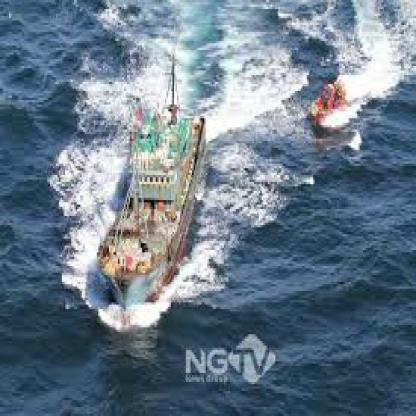fish-b: (83, 37, 218, 336)
